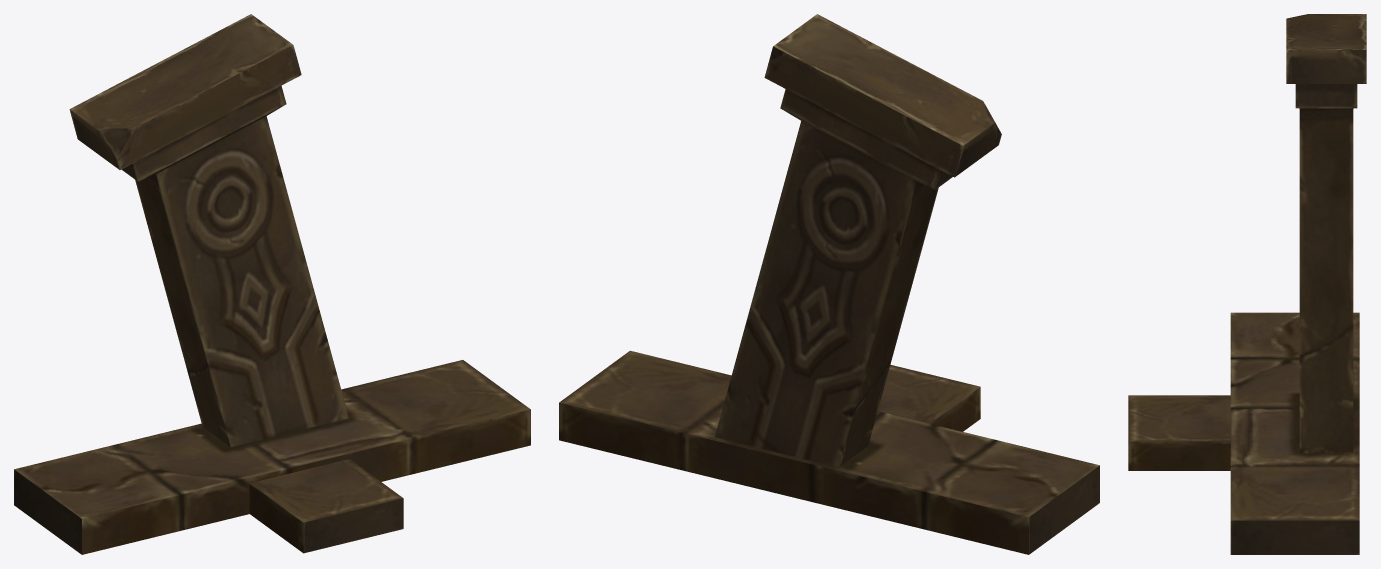
Rendered from Dxlm_zhuzi.FBX.
The picture shows the model from 3 angles, left to right: view 1: azimuth 30°, elevation 25°; view 2: azimuth 150°, elevation 25°; view 3: azimuth 270°, elevation 25°; orthographic projection. The views are drawn at different scales.
Visible parts, largest first — view 1: Dxlm_zhuzi; view 2: Dxlm_zhuzi; view 3: Dxlm_zhuzi.
Boxes of the visible parts, <box> form: Dxlm_zhuzi: <box>14,14,530,554</box>; Dxlm_zhuzi: <box>559,14,1099,554</box>; Dxlm_zhuzi: <box>1128,14,1366,554</box>.
Bounding box in the file's own units: 63 × 57.65 × 30.48.
